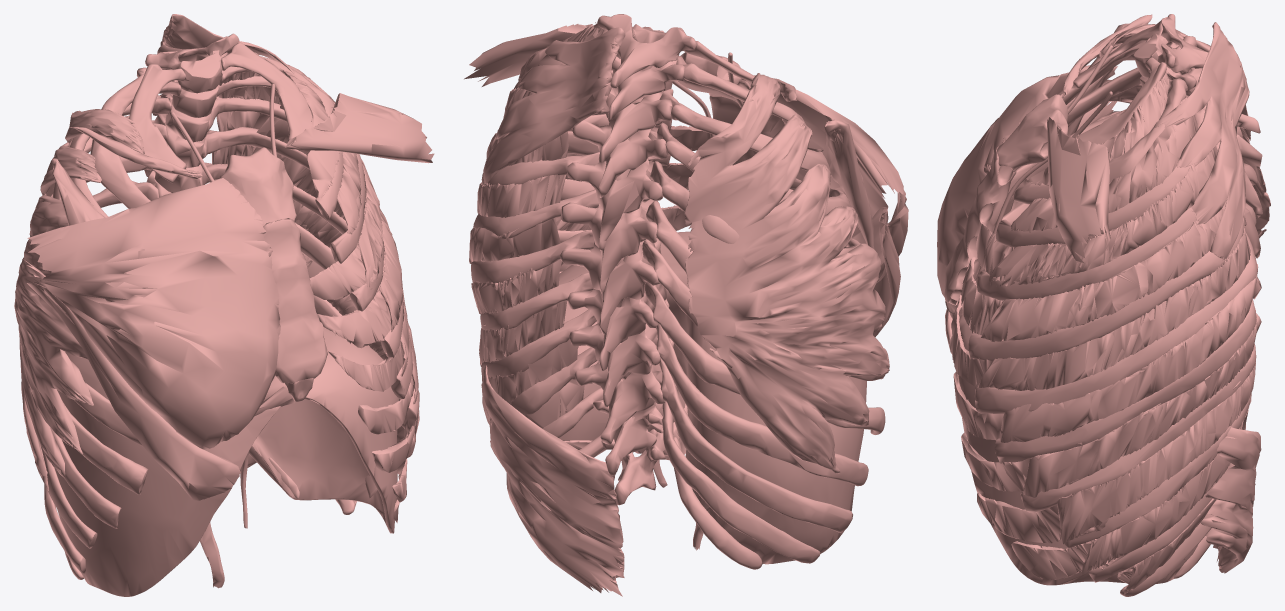
File: thoracic-wall.glb
3 renders of one model, left to right at view 1: azimuth 30°, elevation 25°; view 2: azimuth 150°, elevation 25°; view 3: azimuth 270°, elevation 25°, orthographic. The views are drawn at different scales.
Visible parts, largest first — view 1: pectoralis-major, diaphragm, typical-rib, serratus-anterior, external-intercostal-muscles, internal-intercostal-muscles, sternal-body, first-rib, second-rib, typical-thoracic-vertebra, manubrium, innermost-intercostal-muscles (+7 smaller); view 2: serratus-anterior, typical-rib, typical-thoracic-vertebra, external-intercostal-muscles, serratus-posterior-inferior, diaphragm, atypical-thoracic-vertebrae, pectoralis-major, serratus-posterior-superior, floating-ribs, first-thoracic-vertebra, pectoralis-minor (+5 smaller); view 3: external-intercostal-muscles, typical-rib, pectoralis-major, internal-intercostal-muscles, serratus-posterior-superior, serratus-posterior-inferior, sternal-body, diaphragm, second-rib, manubrium, first-rib, typical-thoracic-vertebra (+6 smaller).
Boxes of the visible parts, x1,y1,x2,y2 form: pectoralis-major: (23, 93, 434, 500); diaphragm: (54, 327, 398, 596); typical-rib: (41, 76, 419, 573); serratus-anterior: (14, 109, 144, 491); external-intercostal-muscles: (209, 52, 419, 506); internal-intercostal-muscles: (294, 169, 416, 522); sternal-body: (263, 219, 327, 383); first-rib: (129, 42, 312, 182); second-rib: (90, 53, 343, 219); typical-thoracic-vertebra: (125, 52, 227, 197); manubrium: (219, 147, 296, 226); innermost-intercostal-muscles: (252, 104, 414, 442); serratus-anterior: (684, 73, 889, 473); typical-rib: (471, 78, 889, 532); typical-thoracic-vertebra: (559, 56, 684, 370); external-intercostal-muscles: (469, 25, 612, 466); serratus-posterior-inferior: (482, 365, 624, 596); diaphragm: (559, 231, 866, 564); atypical-thoracic-vertebrae: (569, 299, 687, 505); pectoralis-major: (464, 22, 908, 337); serratus-posterior-superior: (483, 27, 625, 183); floating-ribs: (543, 387, 820, 569); first-thoracic-vertebra: (597, 14, 697, 88); pectoralis-minor: (820, 119, 874, 249); external-intercostal-muscles: (977, 71, 1258, 594); typical-rib: (968, 67, 1257, 582); pectoralis-major: (937, 65, 1117, 354); internal-intercostal-muscles: (951, 176, 1250, 583); serratus-posterior-superior: (1153, 22, 1249, 259); serratus-posterior-inferior: (1200, 427, 1261, 573); sternal-body: (944, 146, 1016, 305); diaphragm: (958, 311, 1197, 585); second-rib: (1014, 31, 1187, 204); manubrium: (997, 94, 1067, 171); first-rib: (1071, 20, 1166, 144); typical-thoracic-vertebra: (1140, 35, 1262, 332).
Bounding box in the file's own units: 1.5 × 1.9 × 1.06.
